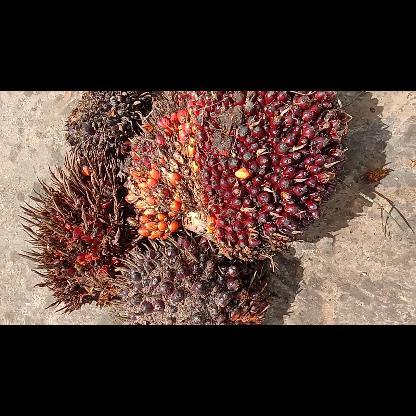Kurang masak: (110, 233, 272, 324)
TBS abnormal: (64, 90, 152, 166)
TBS masak: (122, 91, 350, 263)
Terlalu masak: (16, 143, 134, 313)
